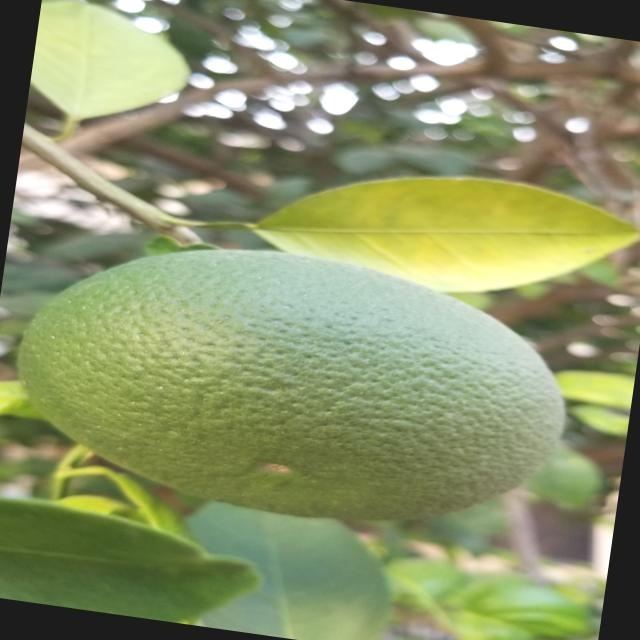agrume: (0, 215, 591, 557)
